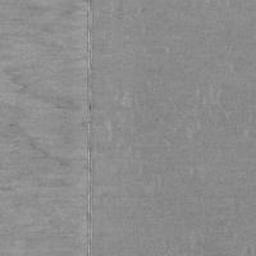Welding line: (86, 0, 95, 256)
